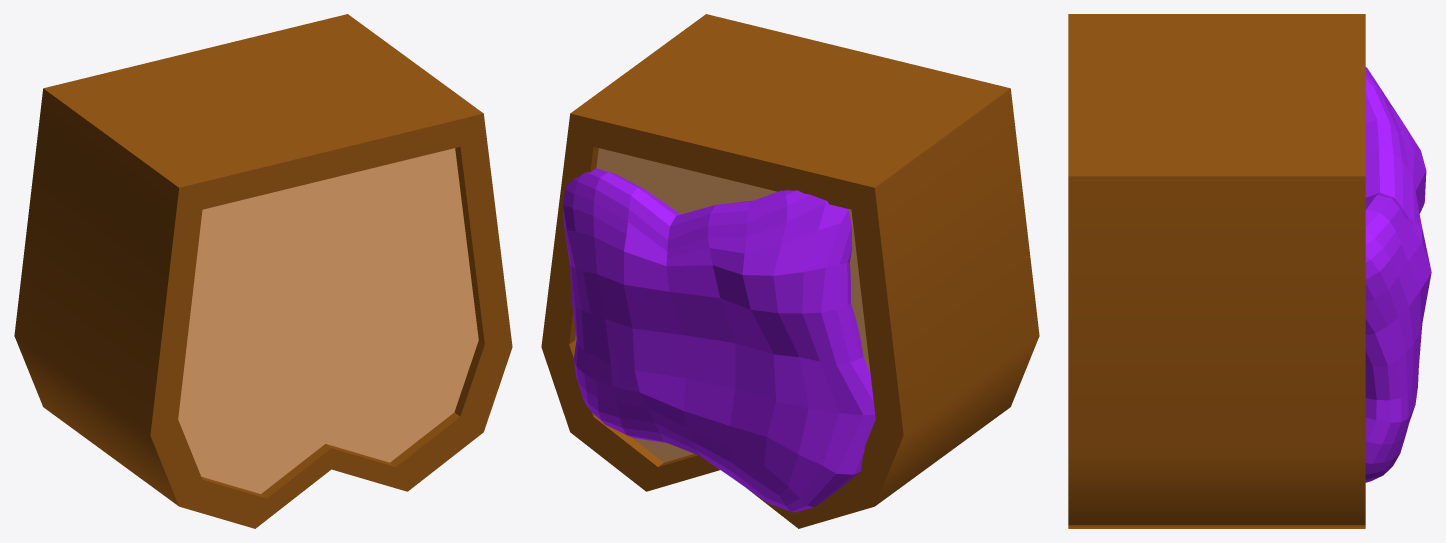
File: Jammed Toast.glb
3 renders of one model, left to right at view 1: azimuth 30°, elevation 25°; view 2: azimuth 150°, elevation 25°; view 3: azimuth 270°, elevation 25°, orthographic. The views are drawn at different scales.
Visible parts, largest first — view 1: ButteredBread_geo.001; view 2: ButteredBread_geo.001, Butter_geo.001; view 3: ButteredBread_geo.001, Butter_geo.001.
Part boxes in pixels (left/top/right/bottom): ButteredBread_geo.001: left=14, top=14, right=512, bottom=528; ButteredBread_geo.001: left=541, top=14, right=1039, bottom=528; Butter_geo.001: left=562, top=168, right=875, bottom=512; ButteredBread_geo.001: left=1068, top=14, right=1365, bottom=528; Butter_geo.001: left=1354, top=67, right=1431, bottom=482.
Size of the model in its own units: 5.21 by 4.94 by 4.14.
